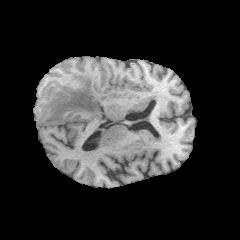glioma: (38, 72, 119, 123)
